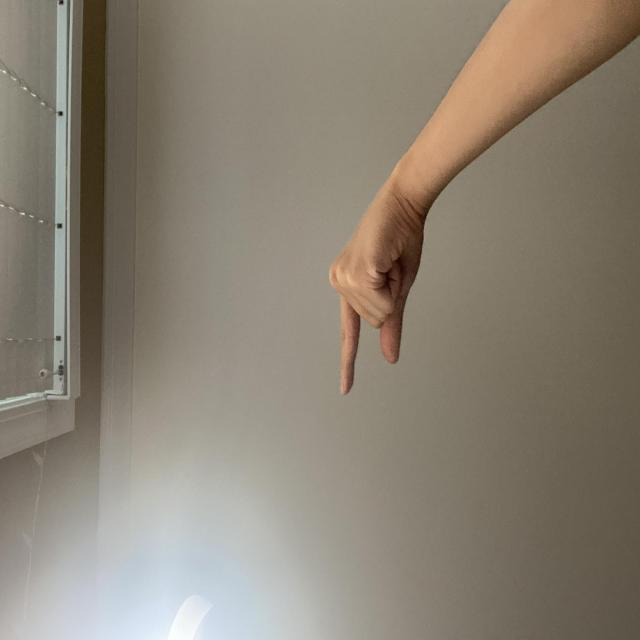G: (178, 433, 356, 572)
